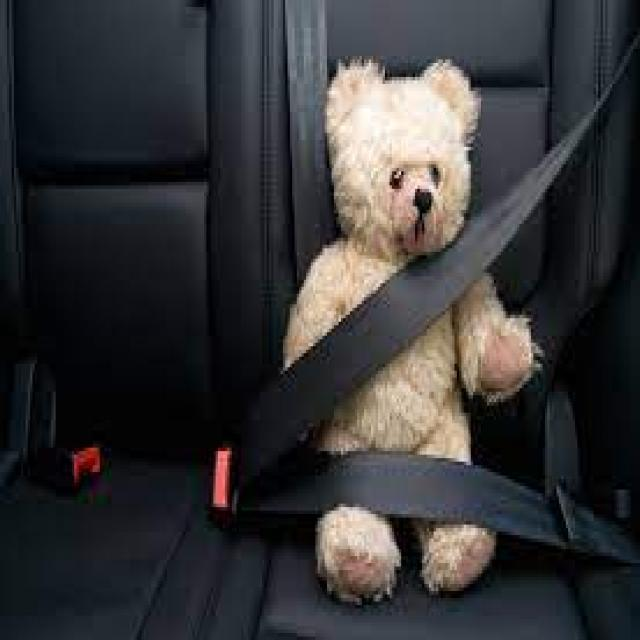seatbelt: (197, 45, 629, 518), (2, 328, 126, 501), (274, 6, 340, 262)
